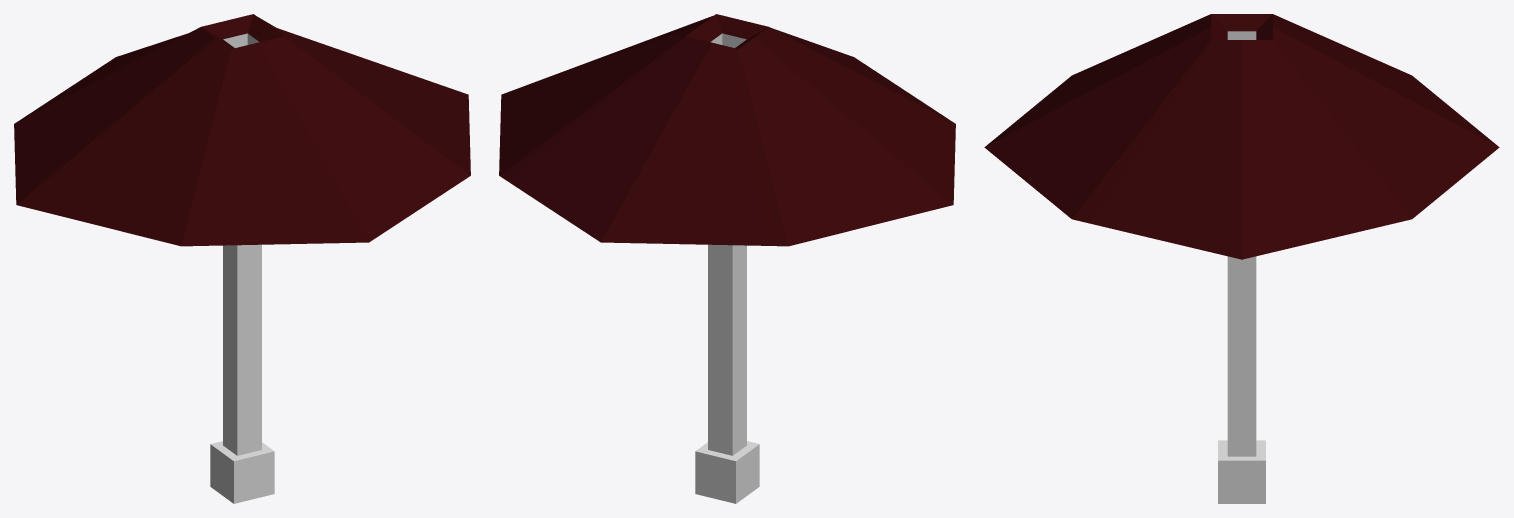
The model's file is Umbrella.fbx.
3 renders of one model, left to right at view 1: azimuth 30°, elevation 25°; view 2: azimuth 150°, elevation 25°; view 3: azimuth 270°, elevation 25°, orthographic.
Visible parts, largest first — view 1: Cube; view 2: Cube; view 3: Cube.
Boxes of the visible parts, <box> form: Cube: <box>14,14,470,503</box>; Cube: <box>499,14,955,503</box>; Cube: <box>984,14,1499,503</box>.
Size of the model in its own units: 747 by 724 by 725.
